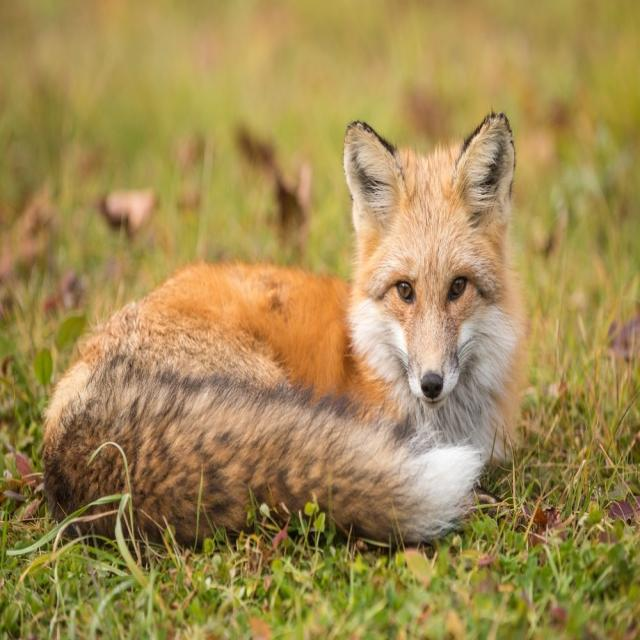Fox: (43, 106, 522, 552)
